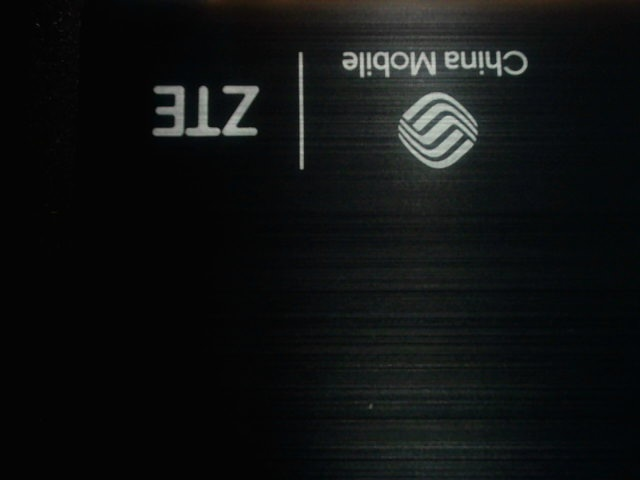AL_ZTEChinaMobile: (128, 34, 538, 179)
